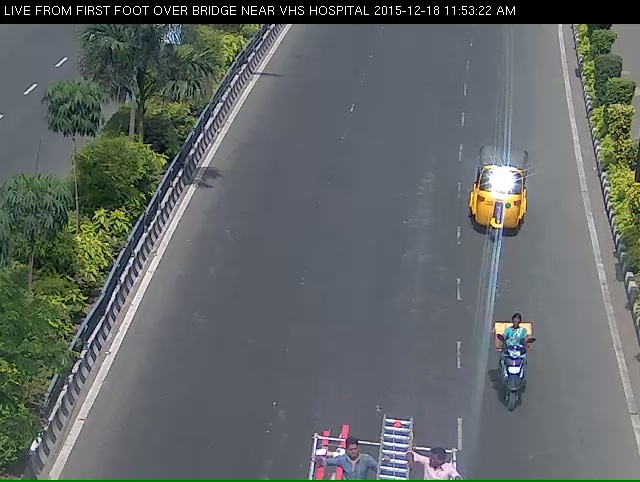Auto: (463, 144, 526, 256)
Person: (484, 336, 543, 442)
